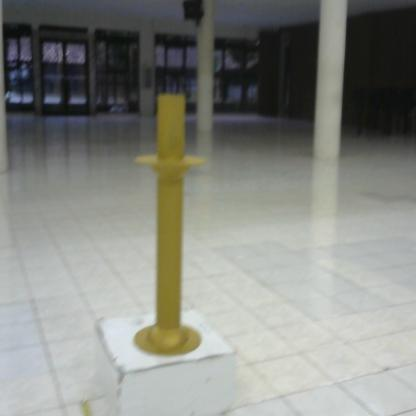pole: (132, 85, 212, 362)
